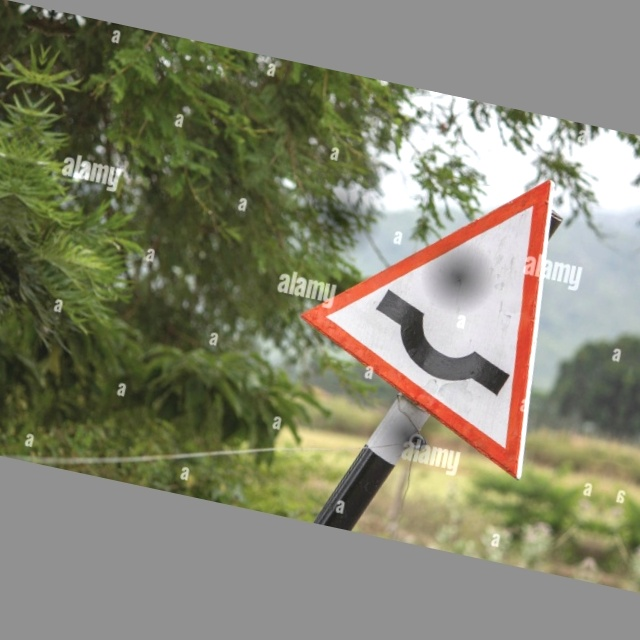Dangerous_Dip: (273, 130, 589, 478)
